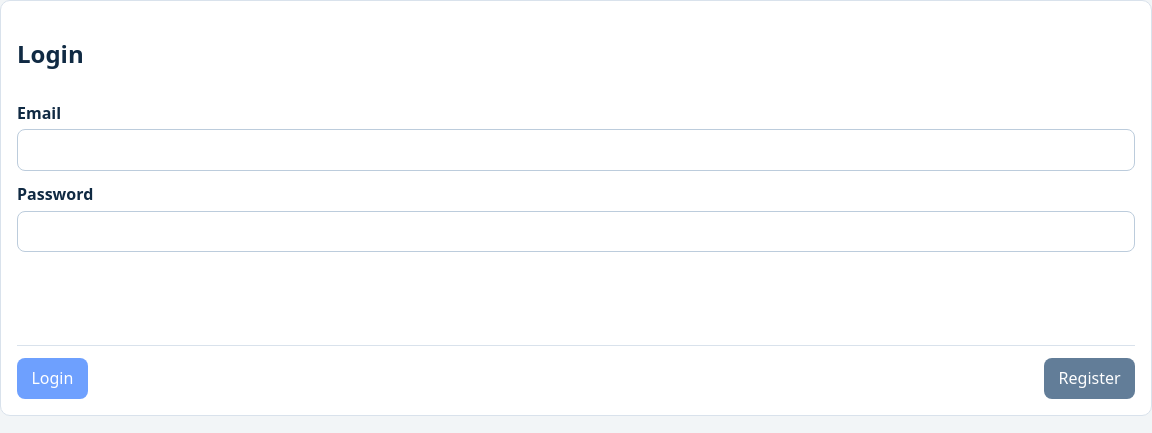
it: LoginForm › disables submit until required fields are valid
The image size is (1152, 433).
Expected: the button "Login" is disabled, [17, 358, 88, 399]
Expected: the text "Email is required." is not shown
Click the field labelled "Email".
click(576, 150)  # box [17, 129, 1135, 171]
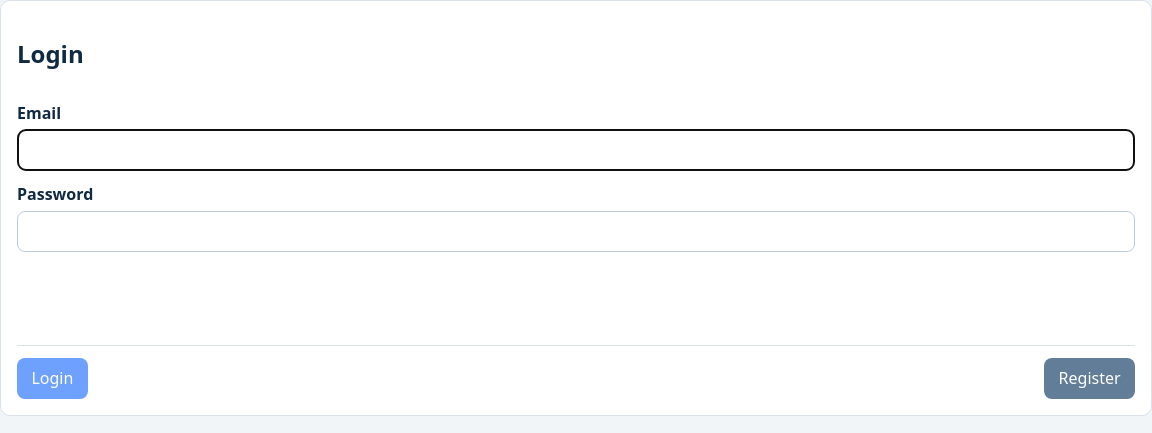
Press Tab
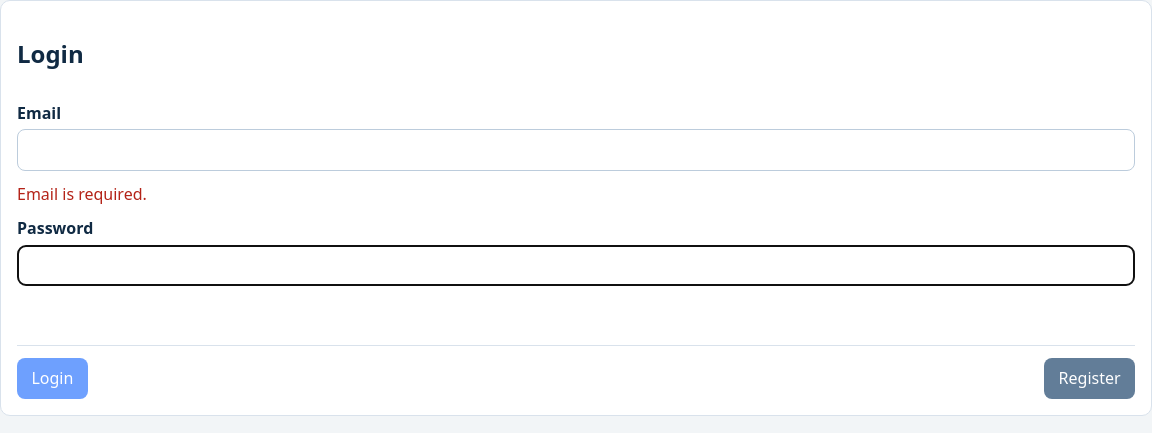
Expected: the text "Email is required." is shown, [17, 183, 147, 205]
Type "alice@todo.local" into the field labelled "Email".
click(576, 150); type("alice@todo.local")  # box [17, 129, 1135, 171]
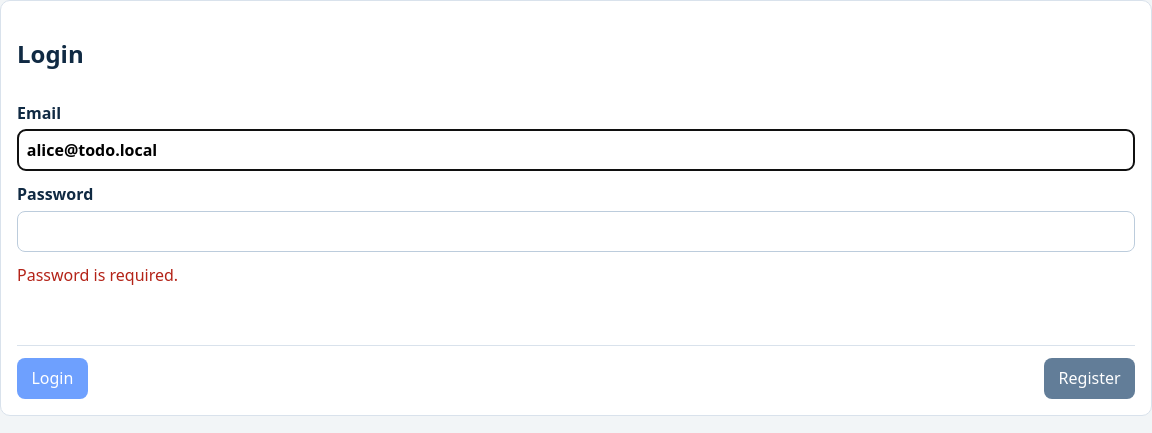
Type "Strong1!" into the password field labelled "Password".
click(576, 231); type("Strong1!")  # box [17, 211, 1135, 252]
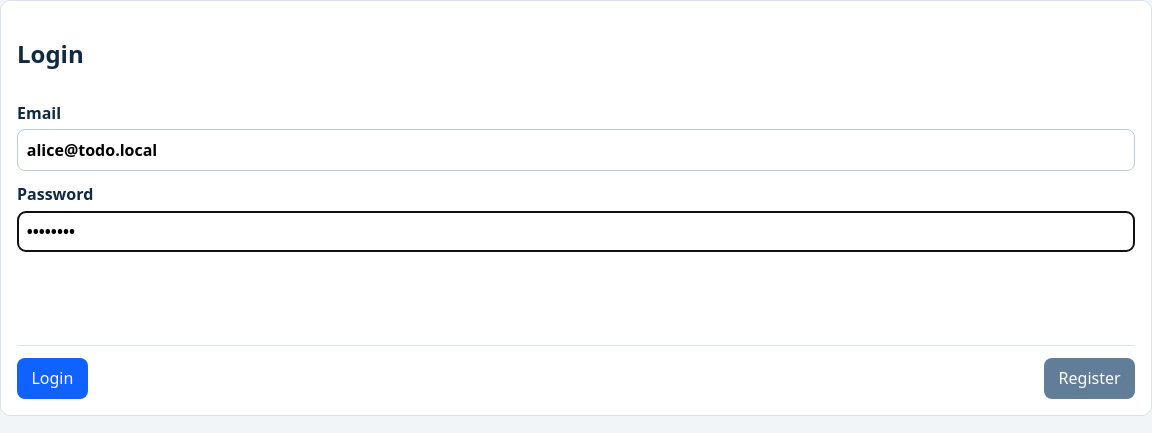
Expected: the button "Login" is enabled, [17, 358, 88, 399]
